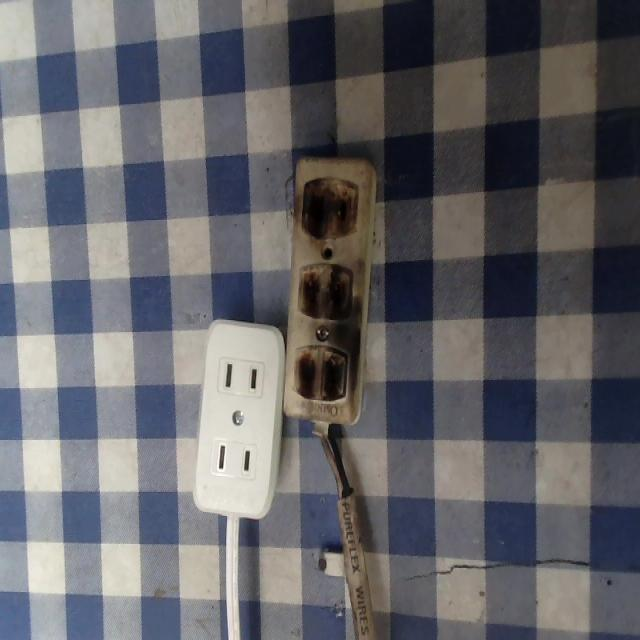-: (295, 256, 357, 324), (301, 169, 357, 243), (290, 339, 352, 404)
